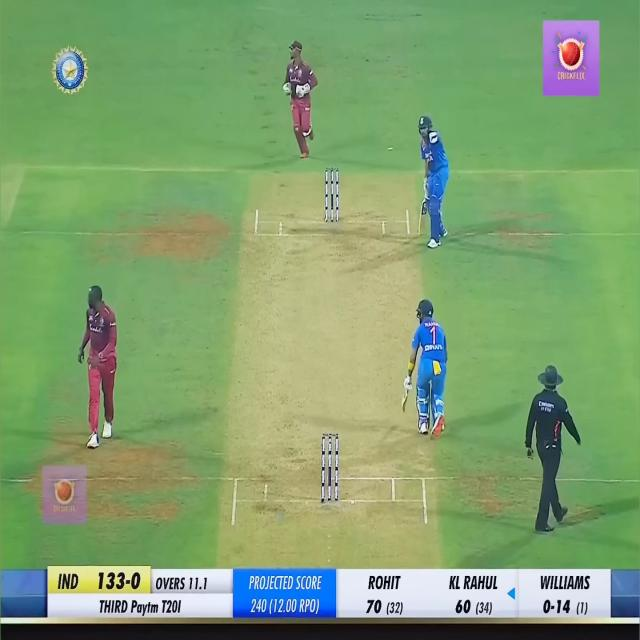fully_visible: (130, 598, 161, 626)
